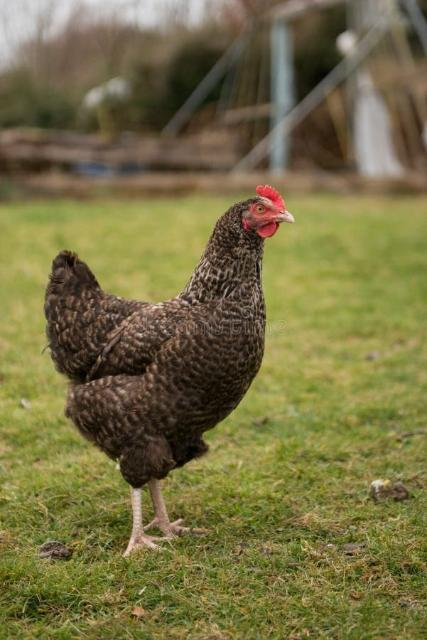Chicken: (44, 182, 295, 562)
